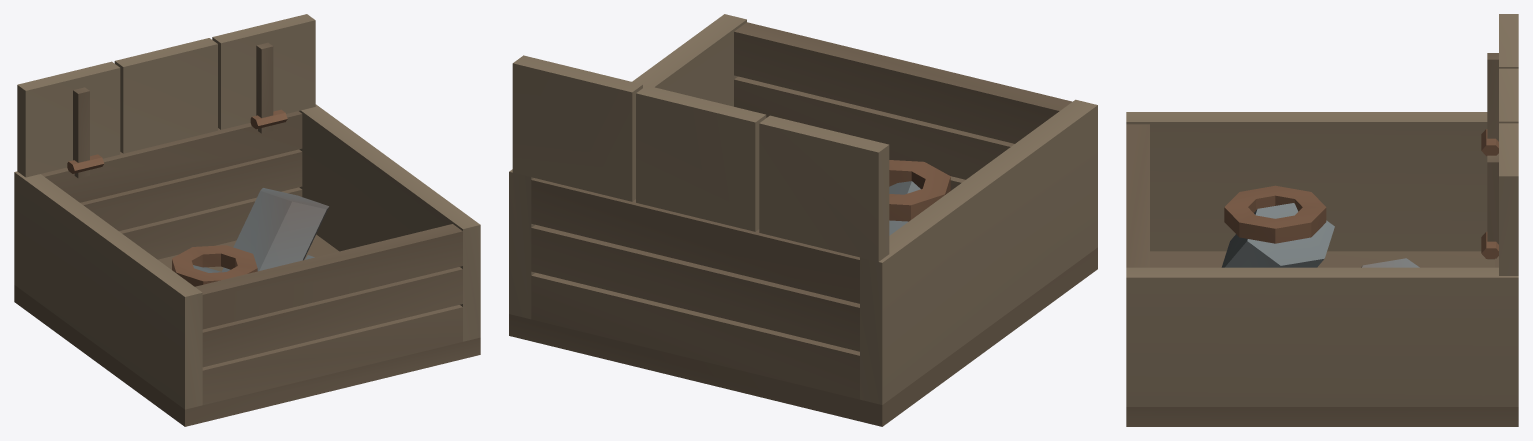
Rendered from part_crate.glb.
3 renders of one model, left to right at view 1: azimuth 30°, elevation 25°; view 2: azimuth 150°, elevation 25°; view 3: azimuth 270°, elevation 25°, orthographic. The views are drawn at different scales.
Visible parts, largest first — view 1: part_crate; view 2: part_crate; view 3: part_crate.
Boxes of the visible parts, x1,y1,x2,y2 form: part_crate: [14, 14, 480, 426]; part_crate: [509, 14, 1097, 426]; part_crate: [1126, 14, 1518, 426].
Size of the model in its own units: 1 by 0.7 by 1.
